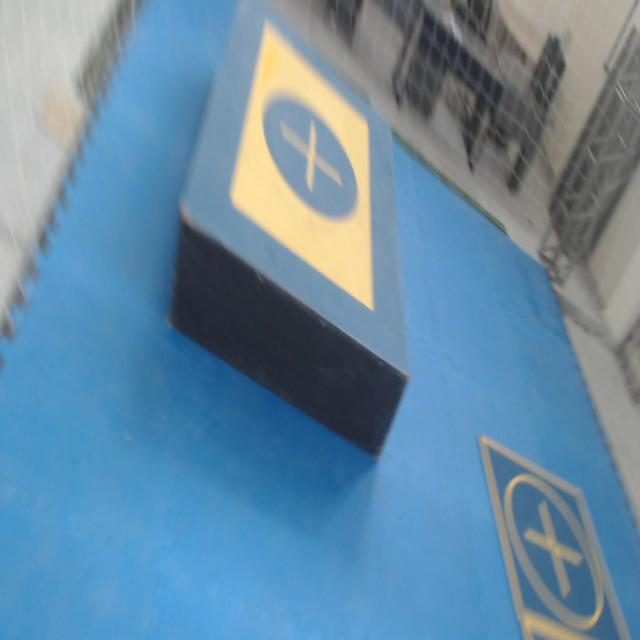base_inicio: (230, 17, 373, 310)
base_pouso: (477, 437, 630, 639), (520, 622, 581, 639)
